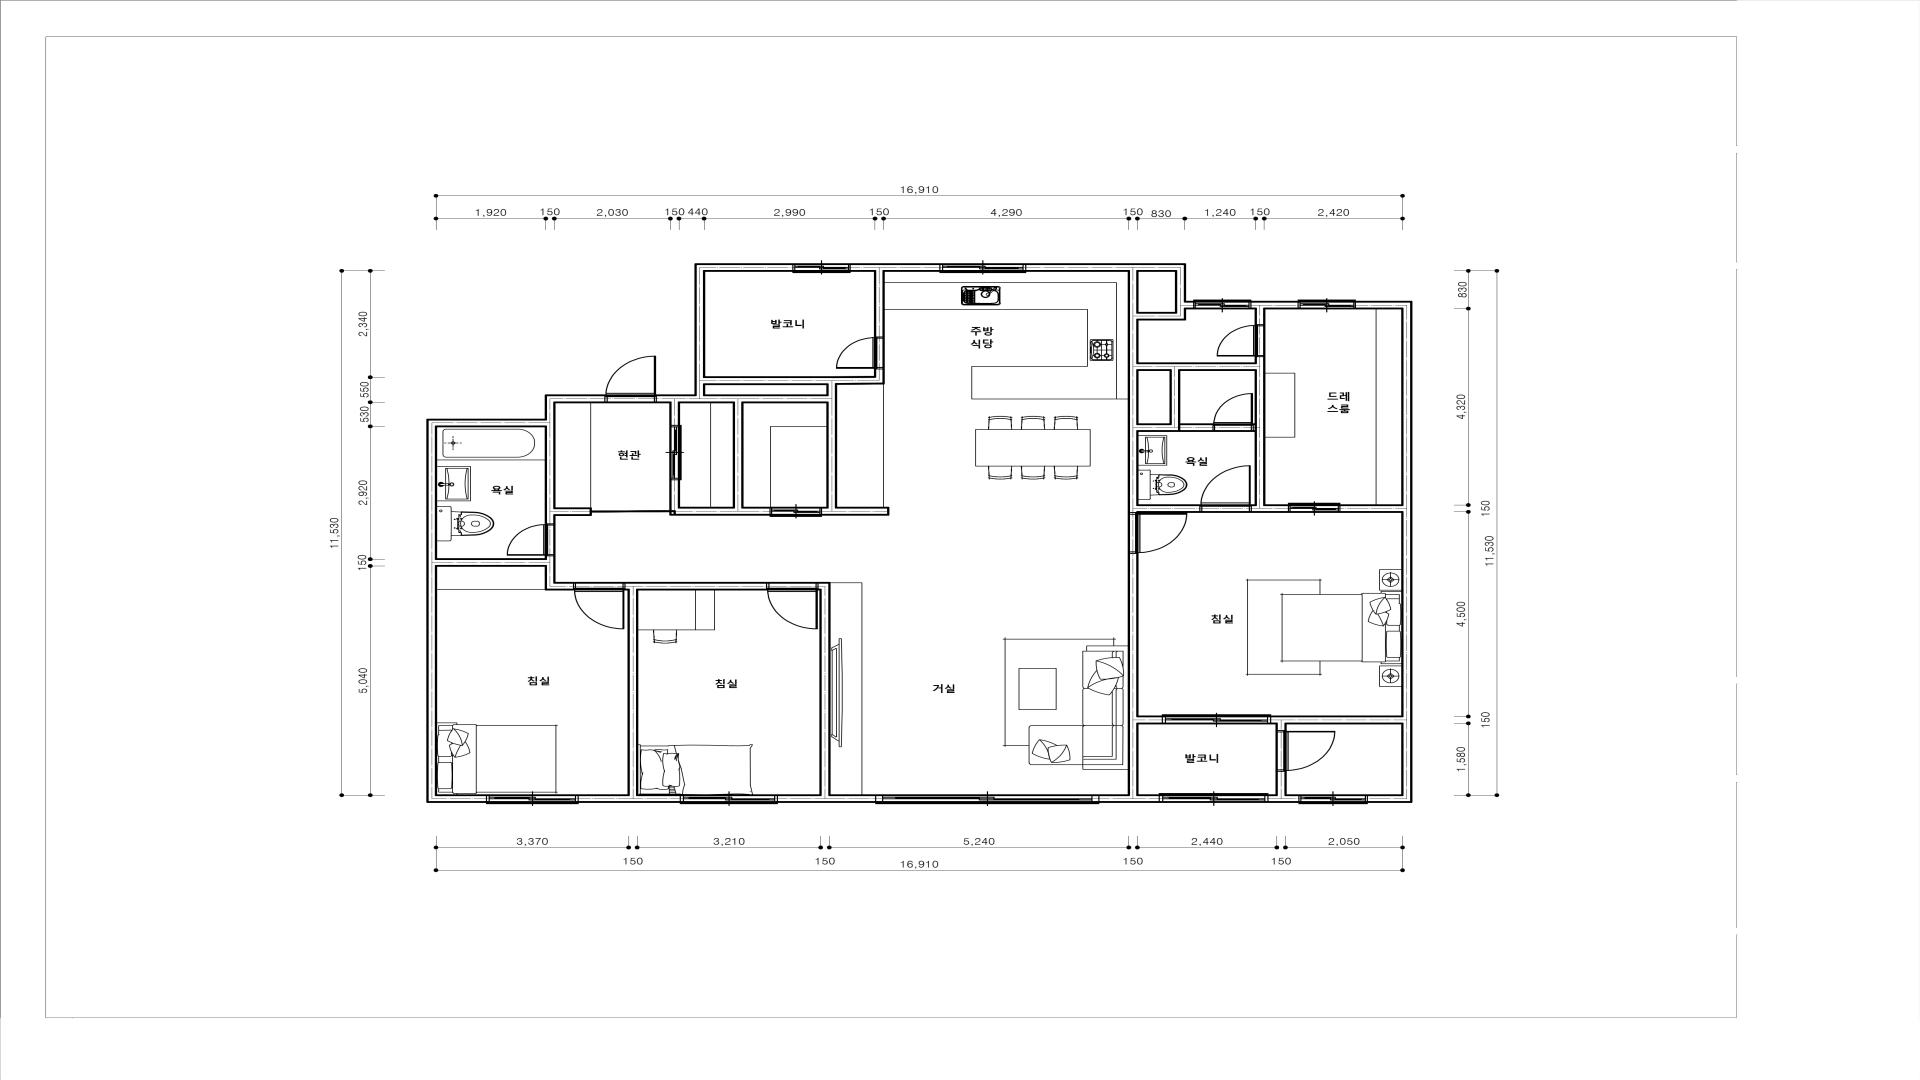door: (604, 355, 657, 404), (574, 582, 626, 629), (766, 582, 819, 629), (1199, 465, 1251, 513), (1275, 731, 1336, 771), (1127, 513, 1188, 554), (1212, 393, 1254, 433), (1216, 324, 1266, 357), (506, 524, 555, 556), (836, 336, 885, 369), (669, 425, 680, 480), (1287, 504, 1341, 513), (770, 506, 823, 516)
wall: (1402, 310, 1412, 803), (426, 418, 438, 794), (1127, 272, 1138, 513), (1127, 554, 1138, 794), (819, 591, 831, 794), (628, 591, 638, 794), (1254, 357, 1266, 504), (705, 376, 885, 385), (695, 264, 705, 394), (626, 582, 766, 591), (827, 385, 837, 506), (1026, 264, 1187, 272), (705, 394, 825, 404), (733, 404, 744, 506), (438, 418, 555, 427), (1271, 716, 1402, 724), (545, 427, 555, 524), (438, 558, 545, 567), (579, 794, 679, 803), (1139, 363, 1254, 371), (778, 794, 876, 803), (680, 506, 769, 516), (851, 264, 939, 272), (705, 264, 793, 272), (874, 272, 885, 336), (1138, 423, 1212, 433), (823, 506, 890, 516), (1138, 504, 1199, 513), (1341, 504, 1402, 513), (1170, 371, 1180, 423), (1100, 794, 1159, 803), (426, 794, 485, 803), (1356, 301, 1412, 310), (555, 394, 604, 404), (657, 394, 705, 404), (1251, 301, 1298, 310), (670, 480, 680, 516), (1175, 272, 1187, 301), (1138, 311, 1175, 320), (1251, 504, 1287, 513), (1369, 794, 1402, 803), (555, 508, 592, 516), (1269, 794, 1298, 803), (1275, 771, 1287, 794), (545, 556, 555, 582), (545, 582, 572, 591), (545, 394, 555, 418), (669, 404, 680, 425), (1139, 716, 1162, 724), (1254, 310, 1266, 324), (1175, 301, 1193, 310), (1175, 310, 1187, 320), (819, 582, 831, 591), (1275, 724, 1287, 731), (874, 369, 885, 376), (1253, 423, 1254, 433)
window: (876, 794, 1100, 803), (1159, 794, 1269, 803), (679, 794, 778, 803), (1162, 716, 1271, 724), (487, 794, 579, 803), (939, 264, 1026, 272), (1299, 794, 1367, 803), (1193, 301, 1251, 310), (1298, 301, 1356, 310), (793, 264, 851, 272)
